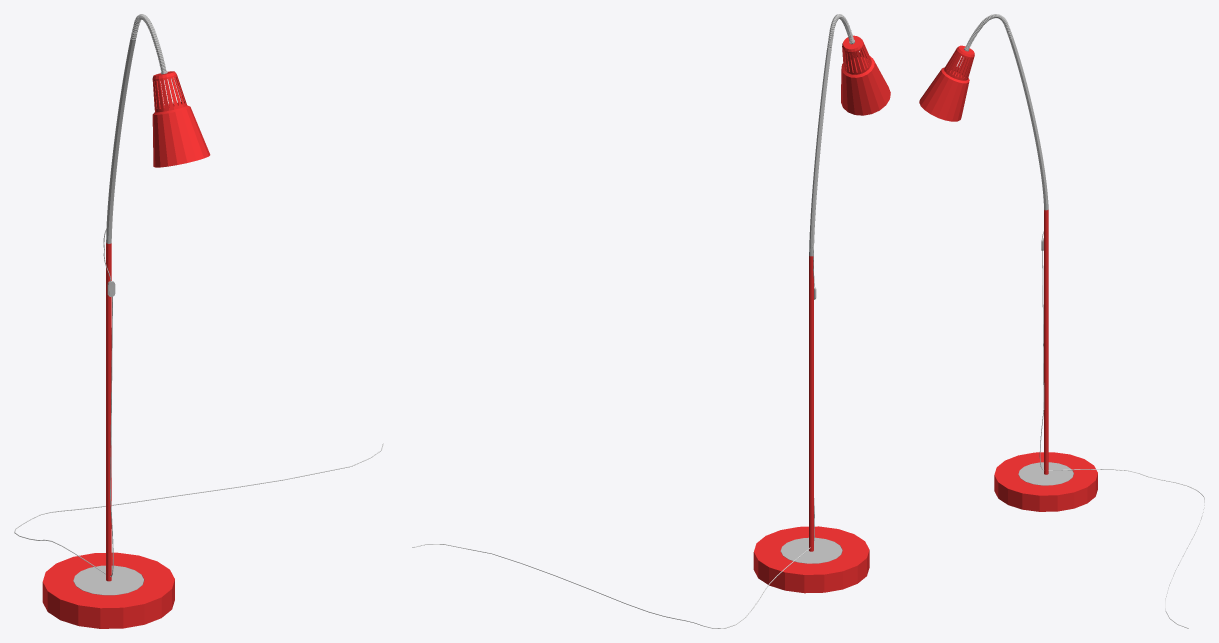
File: Lamp.glb
3 renders of one model, left to right at view 1: azimuth 30°, elevation 25°; view 2: azimuth 150°, elevation 25°; view 3: azimuth 270°, elevation 25°, orthographic. The views are drawn at different scales.
Visible parts, largest first — view 1: IKEA-Kvart_Floor_Lamp_Red-3D; view 2: IKEA-Kvart_Floor_Lamp_Red-3D; view 3: IKEA-Kvart_Floor_Lamp_Red-3D.
Part boxes in pixels (box(x1,y1,x2,y2)): IKEA-Kvart_Floor_Lamp_Red-3D: box(14, 14, 383, 628); IKEA-Kvart_Floor_Lamp_Red-3D: box(412, 14, 890, 628); IKEA-Kvart_Floor_Lamp_Red-3D: box(919, 14, 1204, 628).
Size of the model in its own units: 887 by 1221 by 663.
